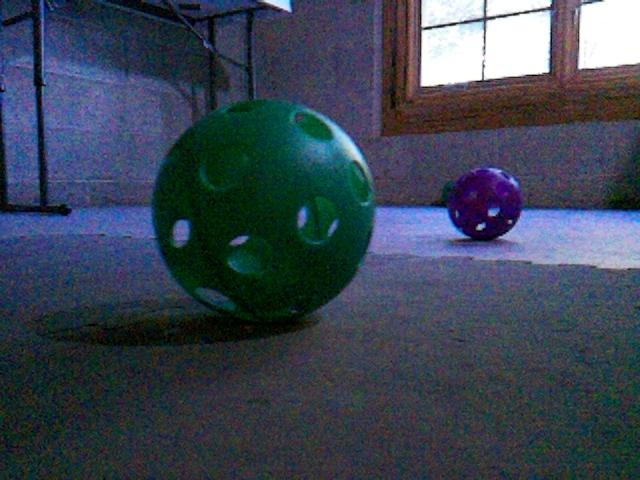Green: (151, 99, 375, 322), (441, 180, 456, 205)
Purple: (444, 167, 523, 242)
